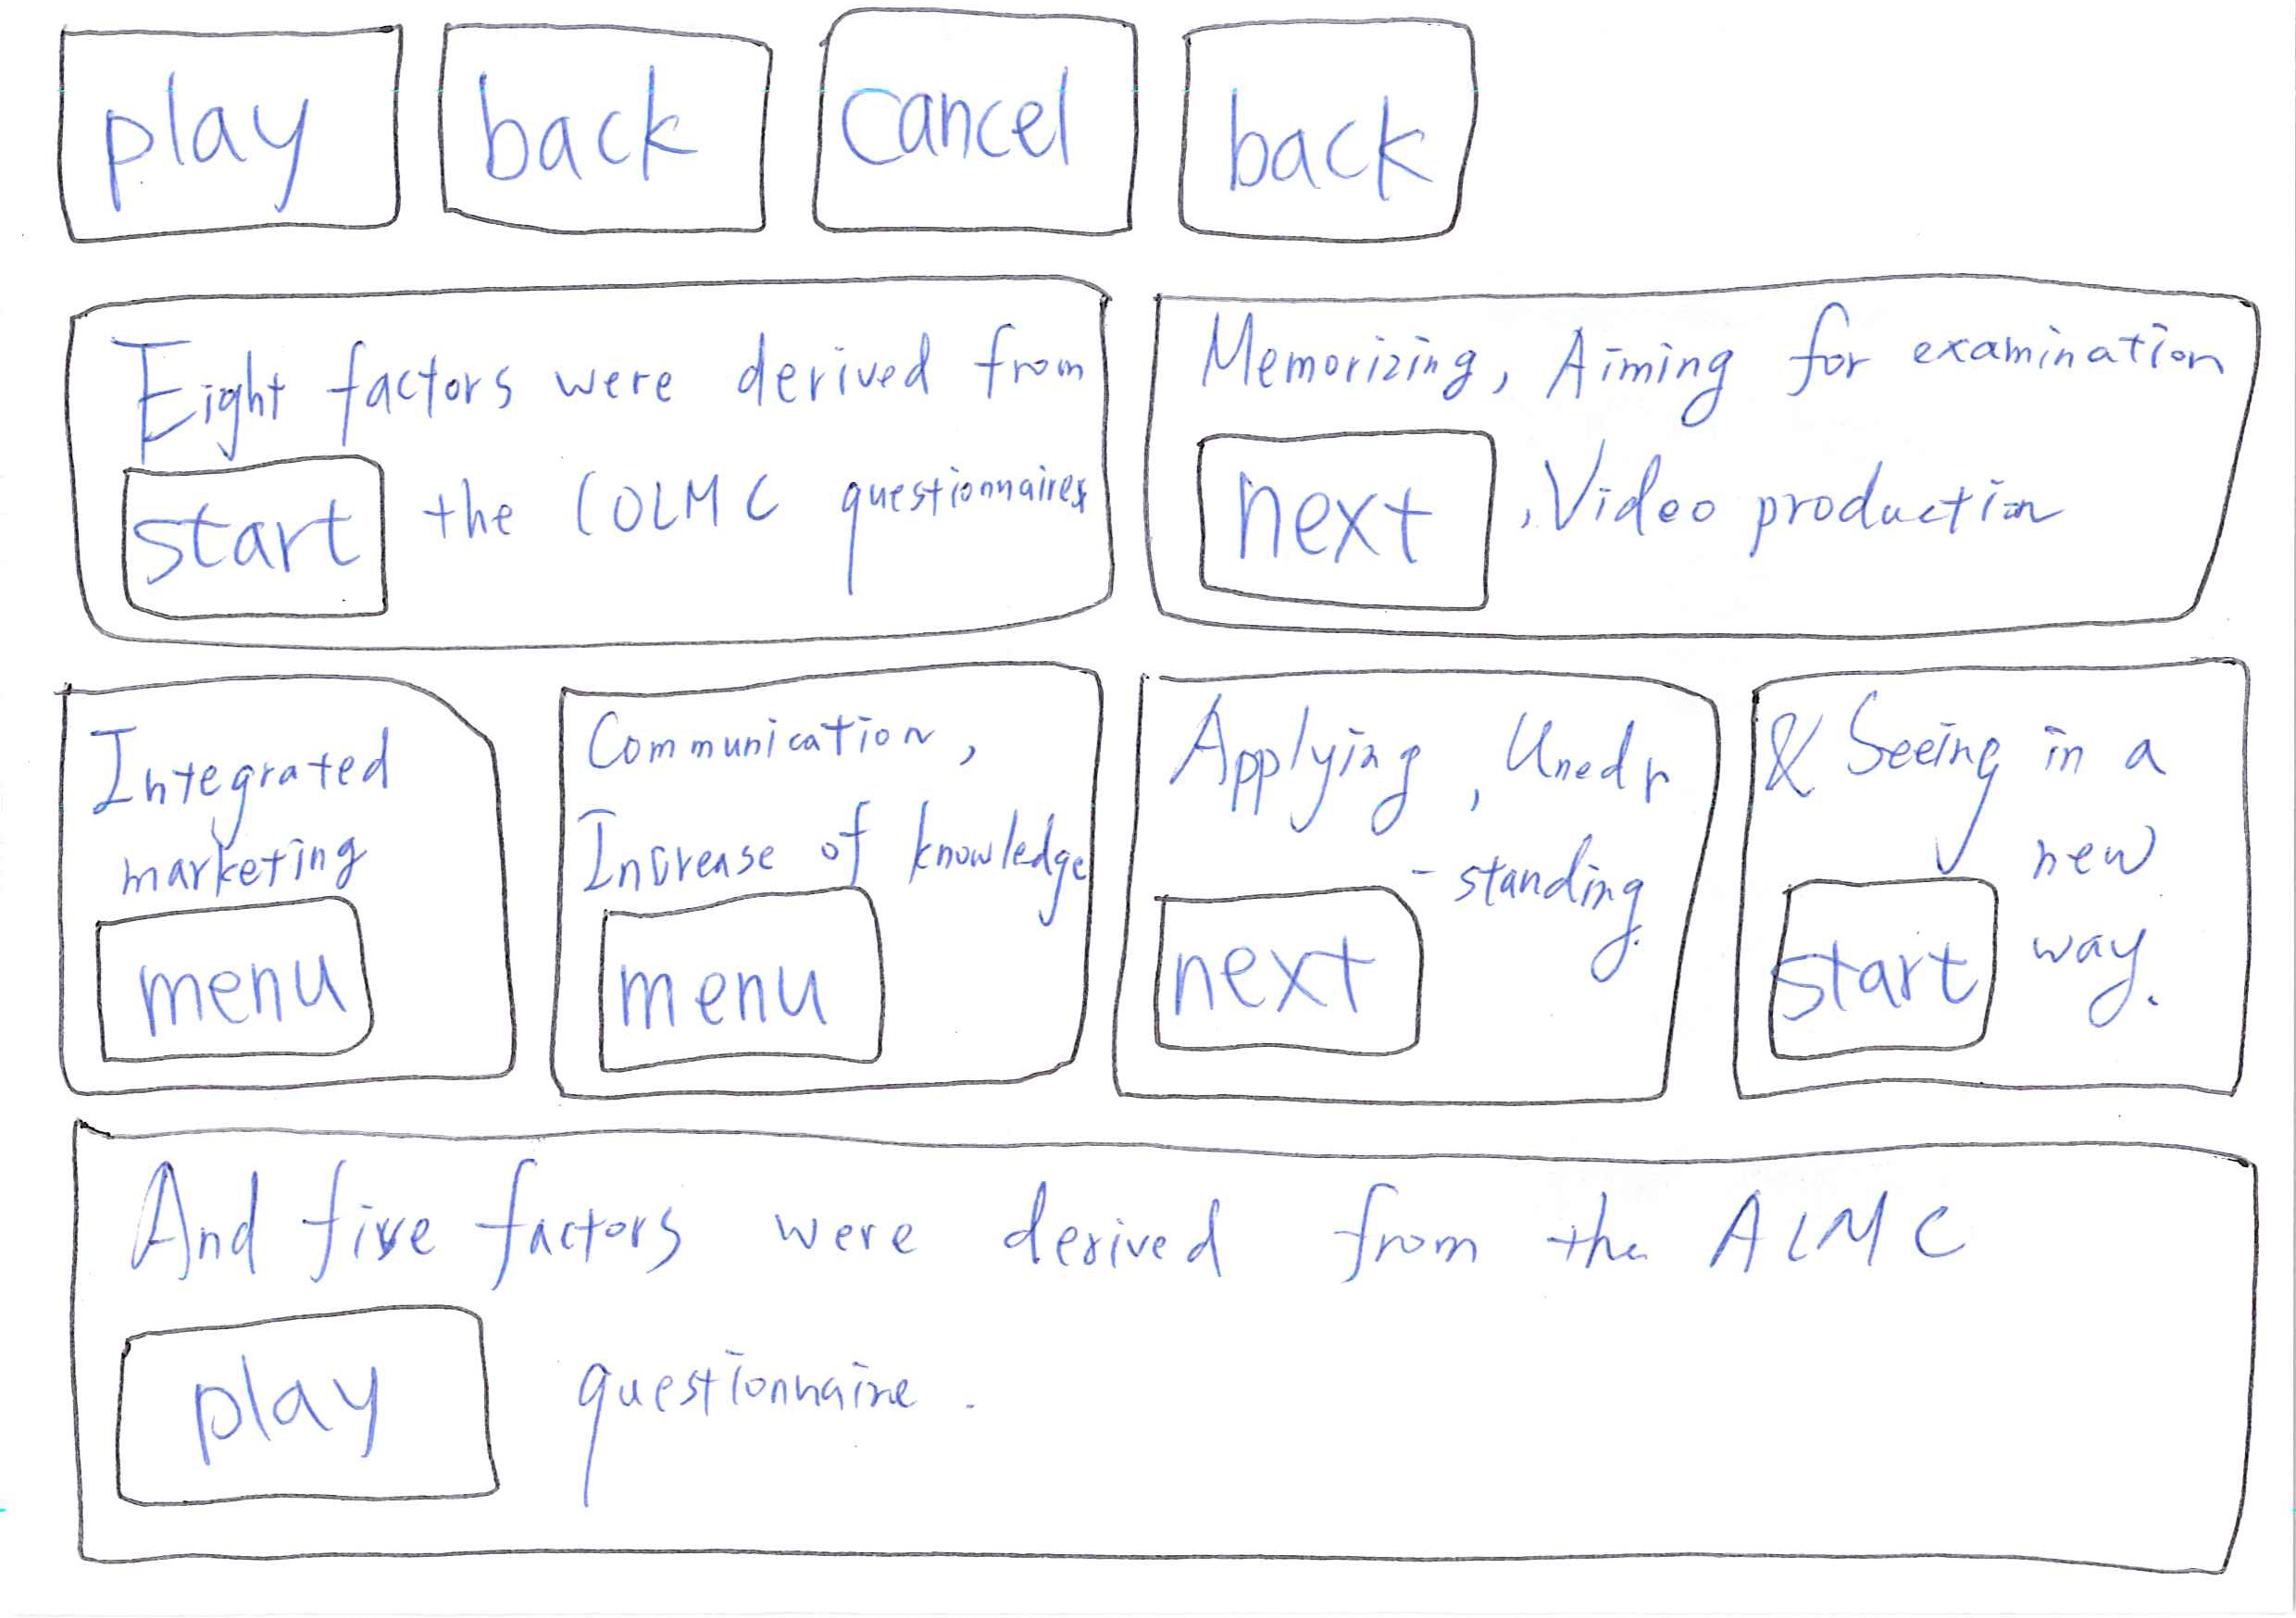back: (417, 7, 790, 263), (1154, 9, 1508, 261)
cancel: (795, 2, 1166, 257)
menu: (564, 872, 912, 1079), (84, 890, 403, 1087)
next: (1184, 401, 1534, 637), (1142, 867, 1443, 1084)
play: (18, 14, 417, 268), (95, 1292, 524, 1522)
quadruple: (1086, 634, 1758, 1135), (1708, 620, 2296, 1157), (518, 632, 1130, 1136), (9, 657, 536, 1110)
row: (30, 1115, 2296, 1618), (30, 625, 2296, 1126), (28, 226, 2294, 657), (30, 2, 2296, 273)
single: (30, 1122, 2294, 1613), (1124, 259, 2296, 657), (21, 252, 1131, 660)
small-title: (116, 1152, 2033, 1310), (131, 324, 1067, 448), (1200, 305, 2191, 401), (1159, 700, 1673, 816), (1772, 697, 2219, 804), (585, 700, 1009, 790), (86, 711, 382, 813)
start: (96, 441, 401, 629), (1751, 865, 2011, 1068)
text: (1546, 443, 2103, 553), (433, 471, 1075, 553), (557, 1354, 923, 1495), (588, 802, 1103, 872), (2042, 835, 2187, 1024), (1462, 844, 1653, 963), (121, 820, 377, 884)
